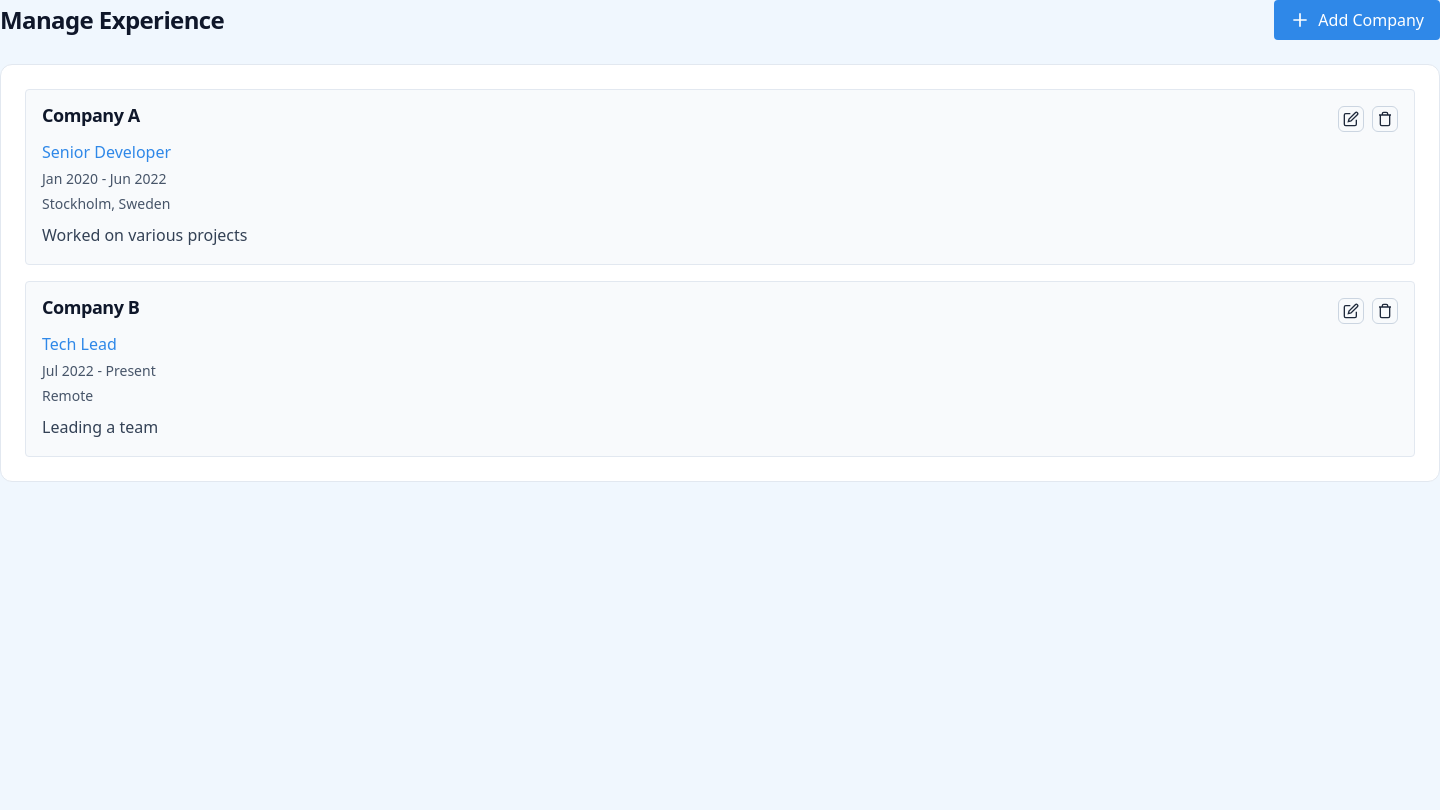
it: AdminCompanies › Edit Form › should show modal with populated data when edit button is clicked
Click the 1st button with class "edit-btn": (1351, 119) [1338,106,1364,132]
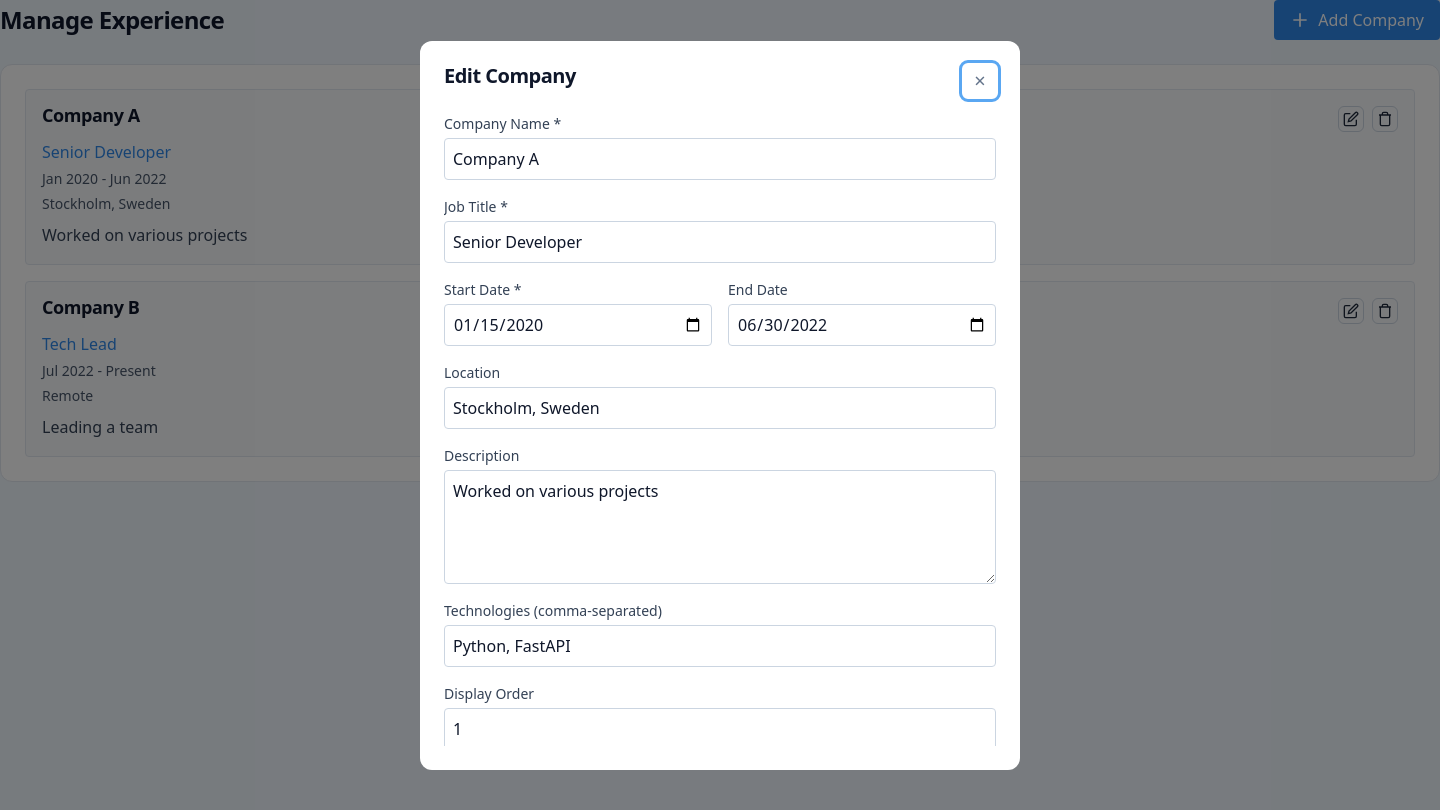
Result: the dialog with class "modal-overlay" is shown
Result: the heading with class "modal-title" reads "Edit Company" at [444,62,576,88]
Result: the field with id "name" holds "Company A" at [444,138,996,180]
